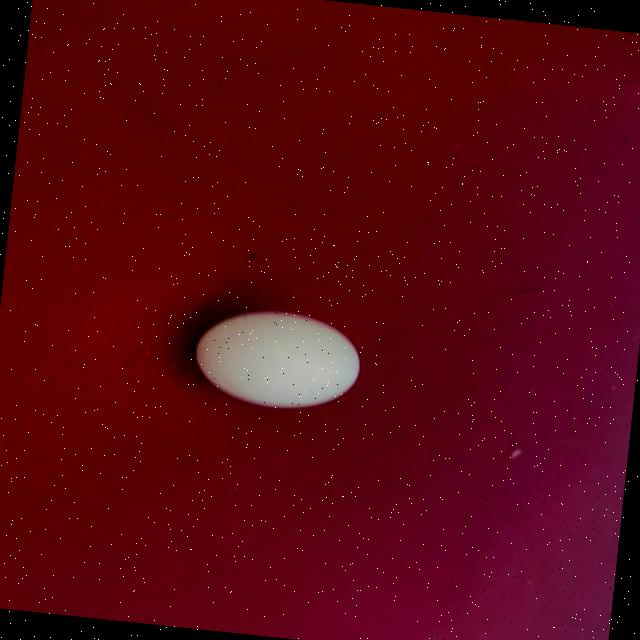ping-pong-ball: (167, 286, 390, 422)
